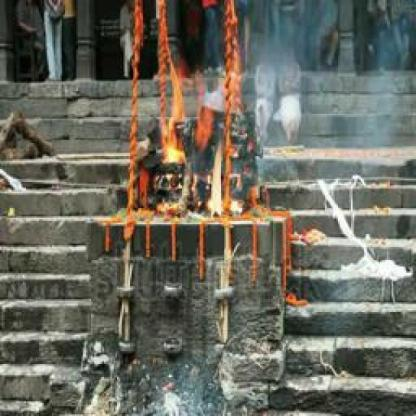fire: (159, 64, 232, 223)
